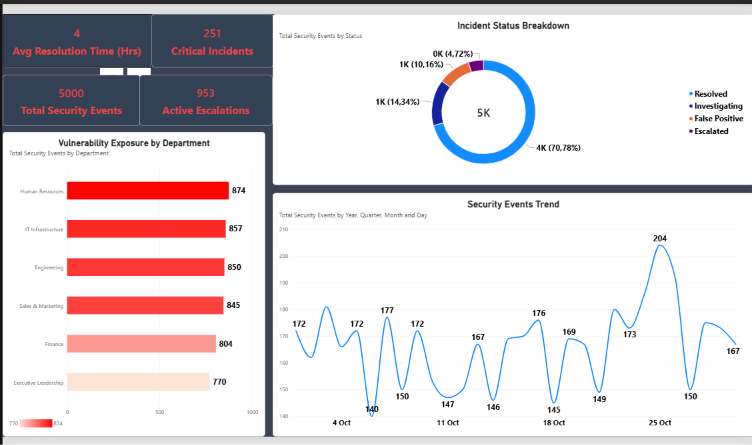

The page's visual inventory and layout, read from the dashboard file:
{"tool":"powerbi","page":{"name":"Executive Risk & Threat Overview","canvas":[1920,1080],"ordinal":0},"visuals":[{"type":"card","fields":{"Values":["enterprise_security_logs.Avg Resolution Time (Hrs)"]},"box":[0,0,380.6,136.6],"z":0},{"type":"card","fields":{"Values":["enterprise_security_logs.Critical Incidents"]},"box":[380.6,0,309.9,136.6],"z":1000},{"type":"card","fields":{"Values":["enterprise_security_logs.Total Security Events"]},"box":[0,156.1,351.3,129.3],"z":2000},{"type":"card","fields":{"Values":["enterprise_security_logs.Active Escalations"]},"box":[351.3,156.1,339.1,129.3],"z":3000},{"type":"lineChart","title":" Security Events Trend","fields":{"Y":["enterprise_security_logs.Total Security Events"],"Category":["enterprise_security_logs.Event_Date.Variation.Date Hierarchy.Year","enterprise_security_logs.Event_Date.Variation.Date Hierarchy.Quarter","enterprise_security_logs.Event_Date.Variation.Date Hierarchy.Month","enterprise_security_logs.Event_Date.Variation.Date Hierarchy.Day"]},"box":[690.5,458.7,1229.7,622.2],"z":4000},{"type":"barChart","title":"Vulnerability Exposure by Department","fields":{"Category":["enterprise_security_logs.Department"],"Y":["enterprise_security_logs.Total Security Events"]},"box":[0,302.5,670.9,778.3],"z":5000},{"type":"donutChart","title":"Incident Status Breakdown","fields":{"Category":["enterprise_security_logs.Status"],"Y":["enterprise_security_logs.Total Security Events"]},"box":[690.5,0,1229.7,436.7],"z":6000}]}

Visuals, with their boxes on the page's 1920x1080 design canvas (x1, y1, x2, y2). These are canvas units, not pixel positions in the 752x445 screenshot, which may show the page scaled, cropped or inside an application window:
card - enterprise_security_logs.Avg Resolution Time (Hrs): BBox(0, 0, 381, 137)
card - enterprise_security_logs.Critical Incidents: BBox(381, 0, 690, 137)
card - enterprise_security_logs.Total Security Events: BBox(0, 156, 351, 285)
card - enterprise_security_logs.Active Escalations: BBox(351, 156, 690, 285)
" Security Events Trend" lineChart: BBox(690, 459, 1920, 1081)
"Vulnerability Exposure by Department" barChart: BBox(0, 302, 671, 1081)
"Incident Status Breakdown" donutChart: BBox(690, 0, 1920, 437)
